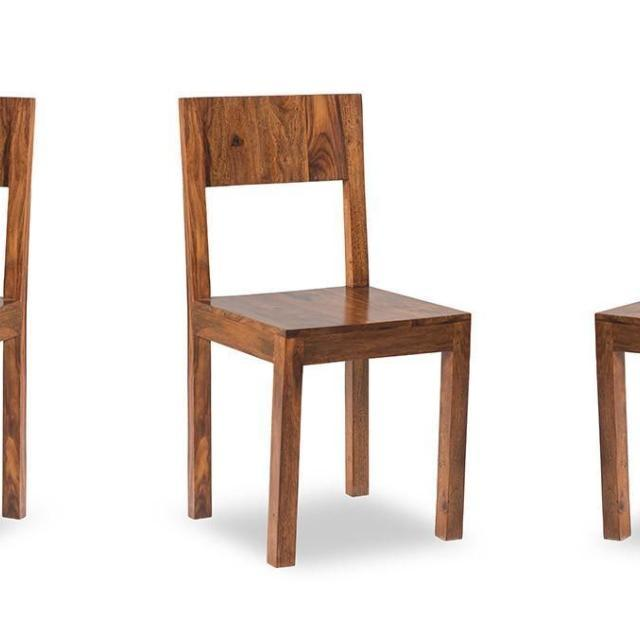obstacle: (144, 54, 482, 594), (0, 54, 68, 594), (583, 54, 640, 594)
